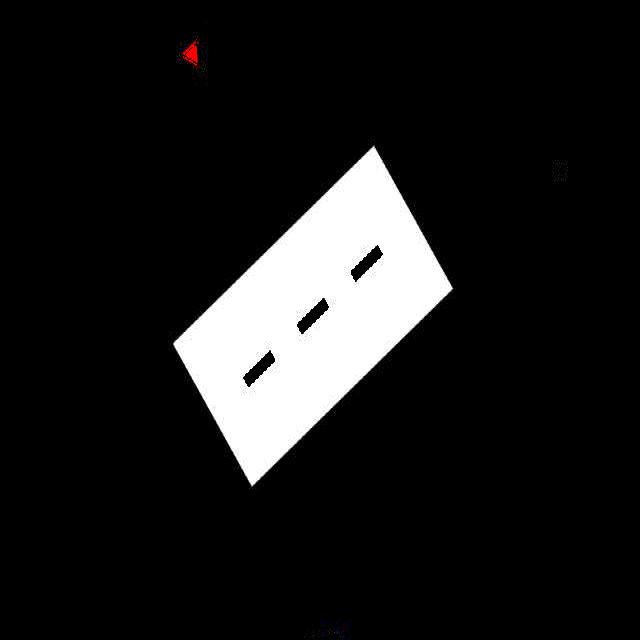red_triangle: (184, 42, 200, 68)
